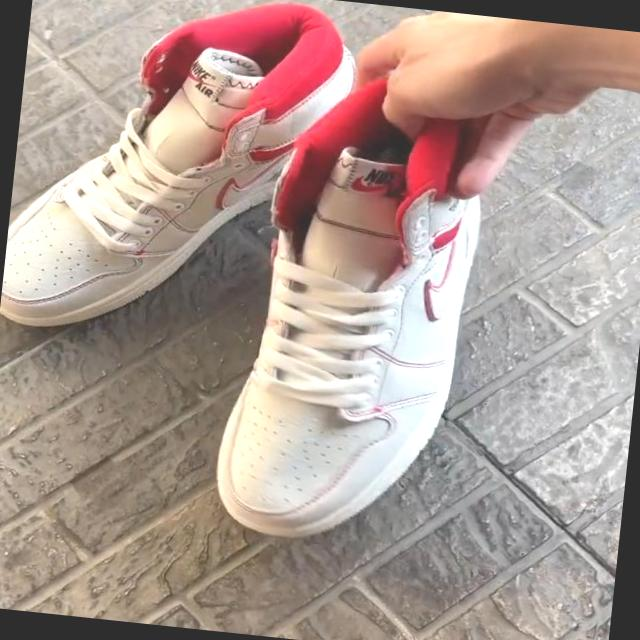nike_fake_jordan: (198, 60, 496, 553), (0, 0, 370, 356)
